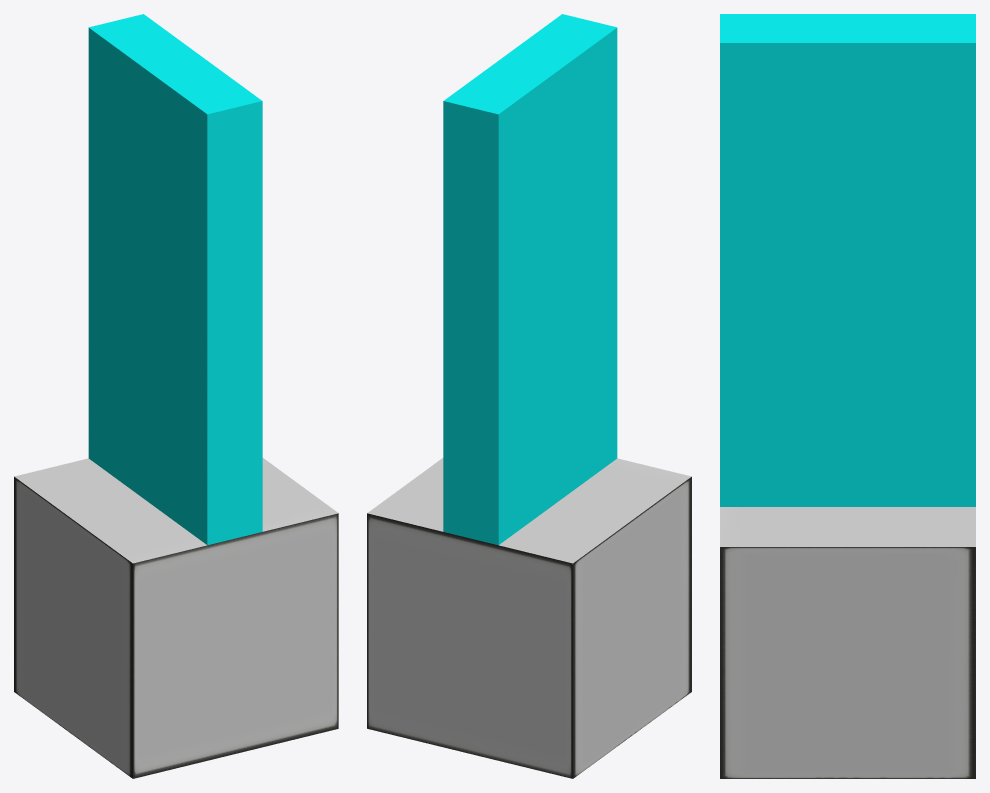
The model's file is wallWindow1L.fbx.
The picture shows the model from 3 angles, left to right: view 1: azimuth 30°, elevation 25°; view 2: azimuth 150°, elevation 25°; view 3: azimuth 270°, elevation 25°; orthographic projection. The views are drawn at different scales.
Parts seen in each view (by area): view 1: window5L, wallForWindow5L; view 2: window5L, wallForWindow5L; view 3: window5L, wallForWindow5L.
Boxes of the visible parts, x1,y1,x2,y2 form: window5L: (88,14,262,545); wallForWindow5L: (14,458,338,778); window5L: (443,14,617,545); wallForWindow5L: (367,458,691,778); window5L: (720,14,975,506); wallForWindow5L: (720,507,975,778).
Size of the model in its own units: 1 by 3 by 1.
